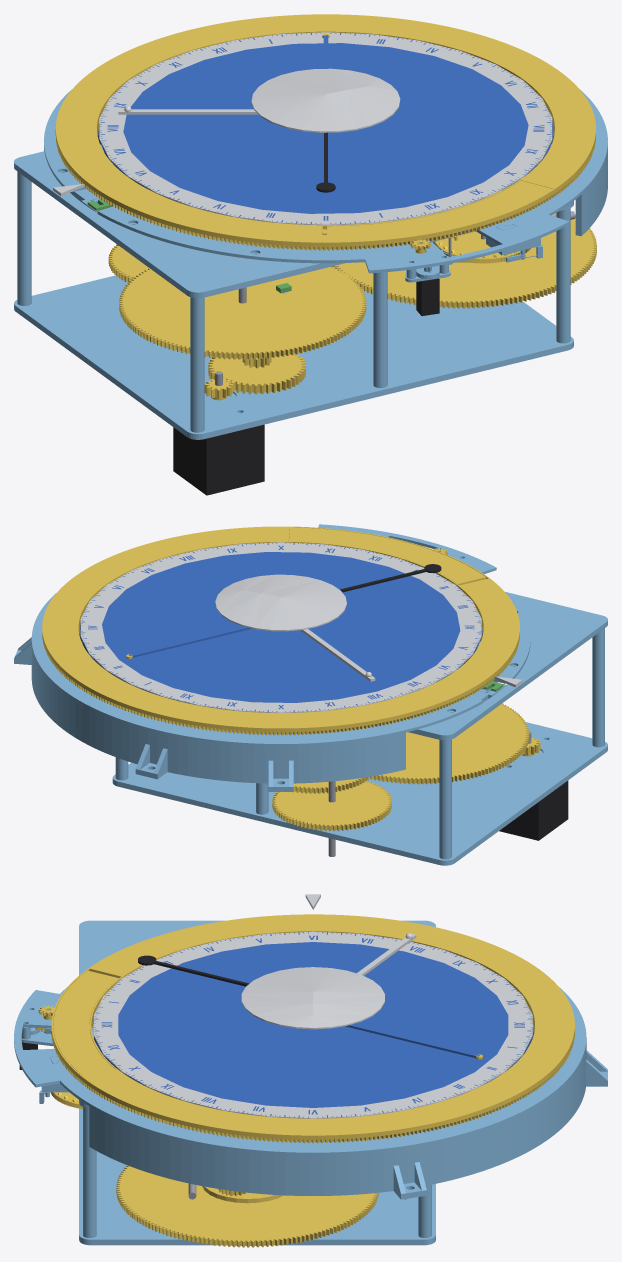
Rendered from m2_main_dial.dae.
3 views of the same model, one above another, from view 1: azimuth 30°, elevation 25°; view 2: azimuth 150°, elevation 25°; view 3: azimuth 270°, elevation 25° (orthographic). The views are drawn at different scales.
Visible parts, largest first — view 1: dial_field, back_plate, I_154, dial_hour_ring, ring_segment_3, carrier_segment_2, front_plate, J_169, hemisphere_dome, ring_segment_2, ring_segment_1, ring_segment_0 (+12 smaller); view 2: dial_field, back_plate, carrier_segment_0, dial_hour_ring, ring_segment_2, ring_segment_3, I_154, hemisphere_dome, front_plate, ring_segment_1, carrier_segment_1, W_84 (+10 smaller); view 3: dial_field, carrier_segment_3, dial_hour_ring, J_169, ring_segment_1, carrier_segment_2, back_plate, hemisphere_dome, ring_segment_2, ring_segment_3, carrier_segment_0, ring_segment_0 (+6 smaller).
Part boxes in pixels (<box>): dial_field: <box>98,33,553,223</box>; back_plate: <box>14,275,573,439</box>; I_154: <box>119,266,366,359</box>; dial_hour_ring: <box>99,32,552,225</box>; ring_segment_3: <box>55,123,314,250</box>; carrier_segment_2: <box>253,141,607,273</box>; front_plate: <box>14,151,573,298</box>; J_169: <box>332,213,596,308</box>; hemisphere_dome: <box>251,68,400,132</box>; ring_segment_2: <box>56,14,338,131</box>; ring_segment_1: <box>337,14,595,140</box>; ring_segment_0: <box>313,133,595,250</box>; dial_field: <box>80,543,482,711</box>; back_plate: <box>112,722,607,865</box>; carrier_segment_0: <box>40,664,345,791</box>; dial_hour_ring: <box>80,542,481,712</box>; ring_segment_2: <box>68,666,390,735</box>; ring_segment_3: <box>374,581,519,723</box>; I_154: <box>363,703,528,784</box>; hemisphere_dome: <box>215,574,346,631</box>; front_plate: <box>408,592,607,740</box>; ring_segment_1: <box>42,537,188,679</box>; carrier_segment_1: <box>340,611,530,779</box>; W_84: <box>272,780,391,831</box>; dial_field: <box>94,932,532,1117</box>; carrier_segment_3: <box>176,1113,506,1199</box>; dial_hour_ring: <box>94,931,532,1118</box>; J_169: <box>116,1165,378,1247</box>; ring_segment_1: <box>171,1076,533,1143</box>; carrier_segment_2: <box>14,987,188,1180</box>; back_plate: <box>79,1108,435,1245</box>; hemisphere_dome: <box>241,967,384,1029</box>; ring_segment_2: <box>433,932,574,1091</box>; ring_segment_3: <box>93,914,454,975</box>; carrier_segment_0: <box>492,987,607,1161</box>; ring_segment_0: <box>51,965,192,1125</box>.
Size of the model in its own units: 379 by 387 by 189.
